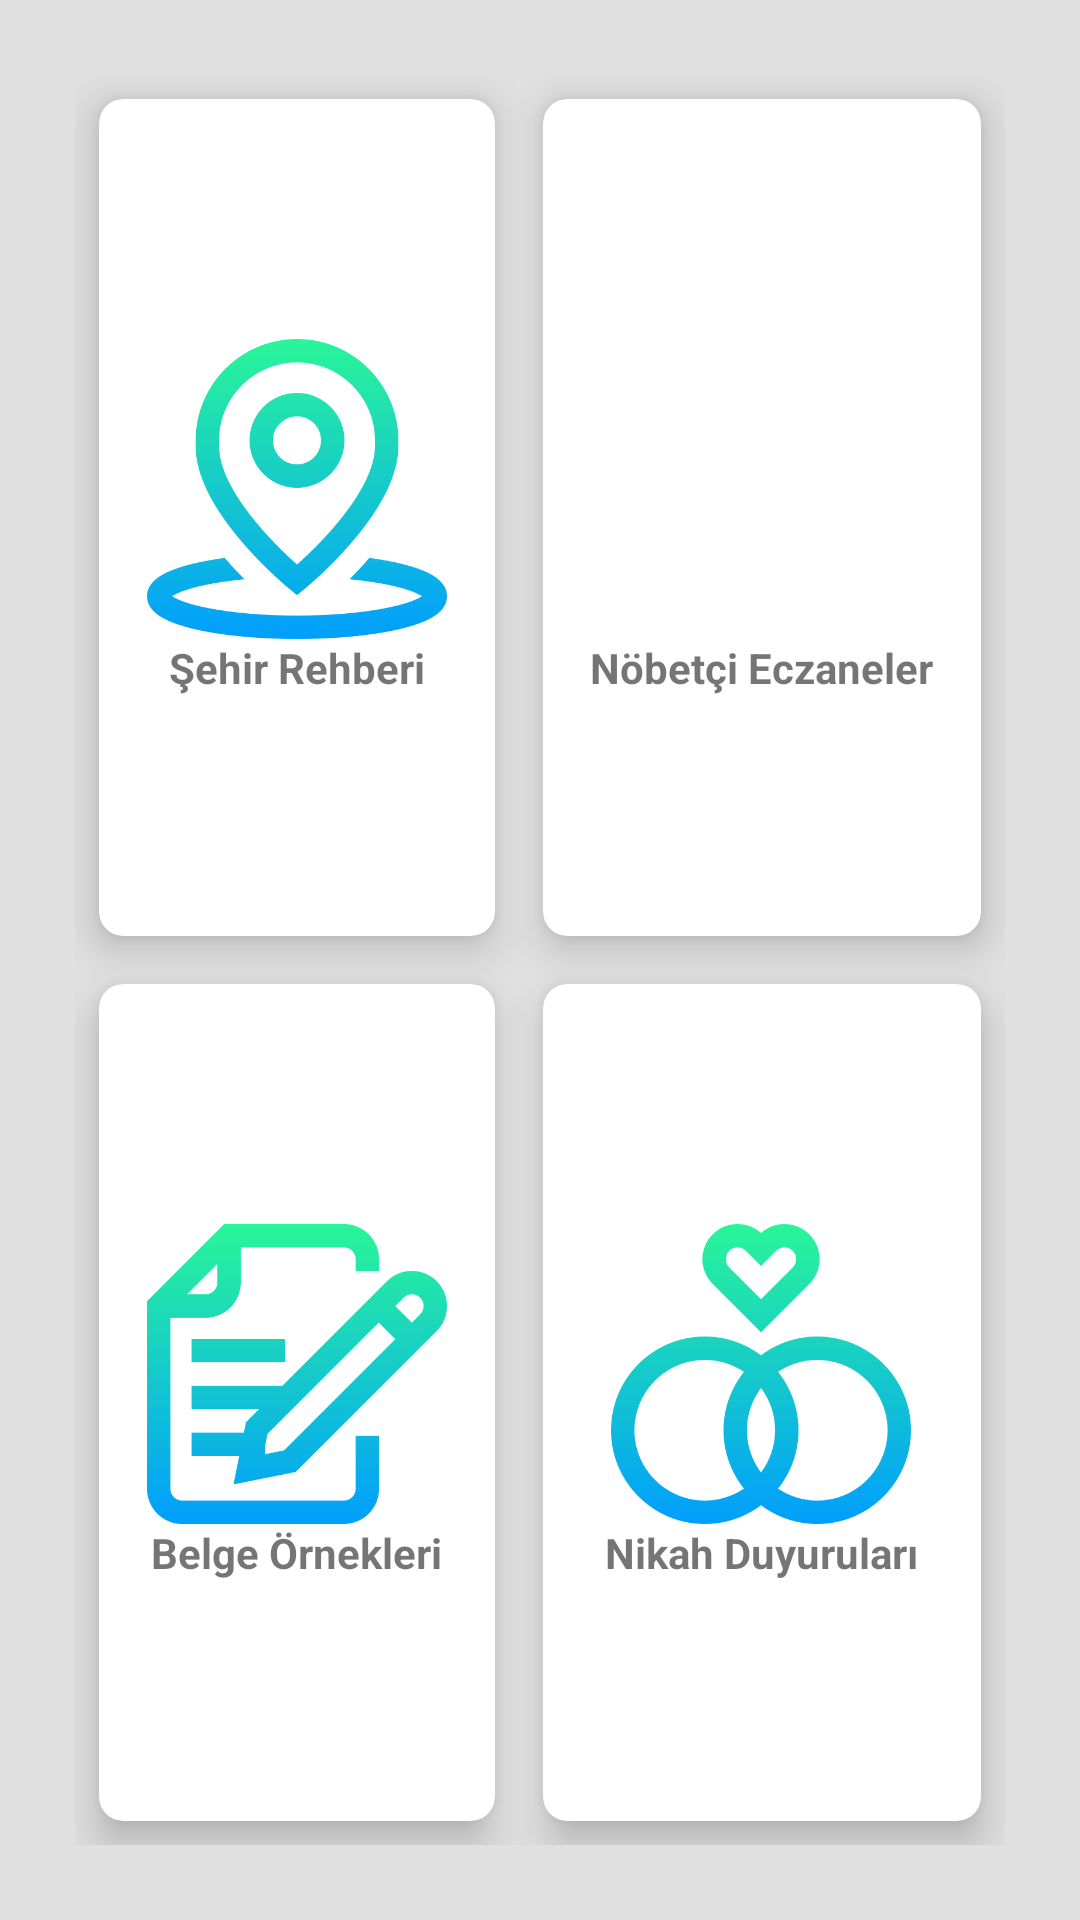

Icon bounding boxes for this 1080 × 1920 phone screenshot, format (x1, y1, x2, y2):
location: (147, 339, 447, 639)
sheet: (147, 1224, 447, 1524)
